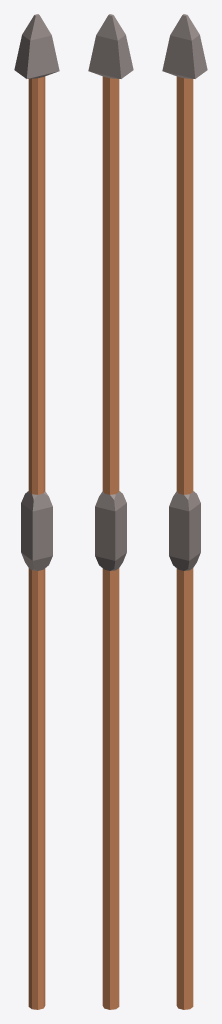
The model's file is spear.fbx.
3 views of the same model, side by side, from view 1: azimuth 30°, elevation 25°; view 2: azimuth 150°, elevation 25°; view 3: azimuth 330°, elevation 25° (orthographic).
Parts seen in each view (by area): view 1: spear; view 2: spear; view 3: spear.
Boxes of the visible parts, x1,y1,x2,y2 form: spear: [14, 14, 59, 1009]; spear: [88, 14, 133, 1009]; spear: [162, 14, 207, 1009].
Bounding box in the file's own units: 4.98 × 143 × 3.25.
